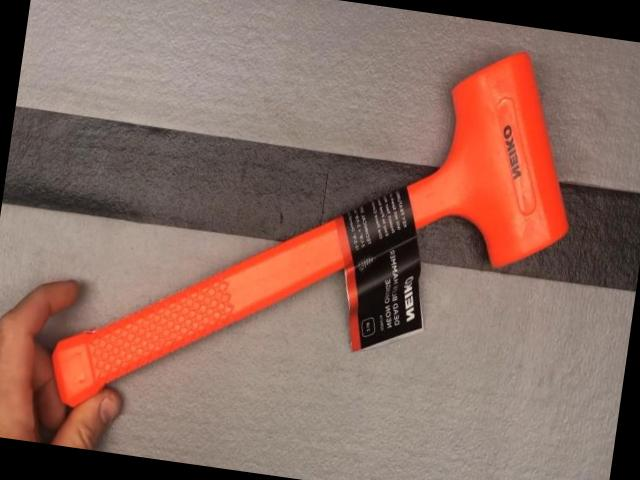hammer: (44, 0, 592, 472)
